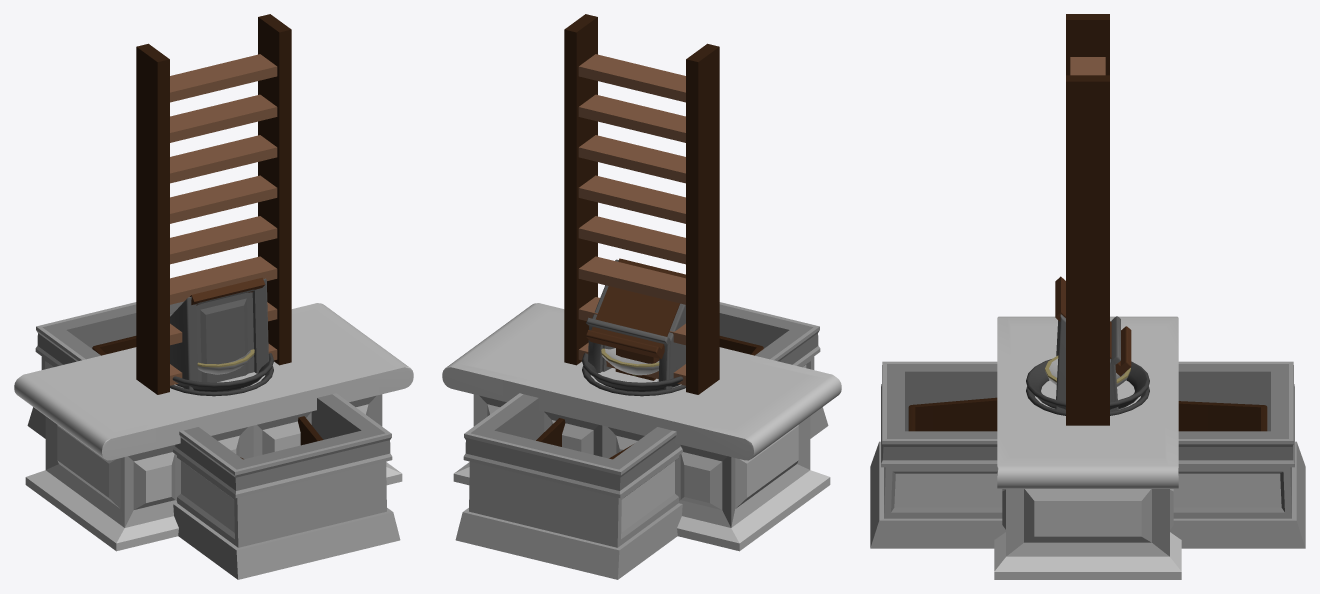
File: MiscFuniture.fbx
3 views of the same model, side by side, from view 1: azimuth 30°, elevation 25°; view 2: azimuth 150°, elevation 25°; view 3: azimuth 270°, elevation 25° (orthographic). The views are drawn at different scales.
Parts seen in each view (by area): view 1: Altar01, Ladder01, Sarcophagus01, Lectern02, Cauldron02, Coffin01, Lectern01, Font01, Cauldron01; view 2: Altar01, Ladder01, Sarcophagus01, Lectern01, Lectern02, Coffin01, Cauldron02, Font01, Cauldron01; view 3: Sarcophagus01, Altar01, Ladder01, Coffin01, Lectern02, Cauldron02, Lectern01.
Part boxes in pixels (bbox=[...]): Altar01: bbox=[14, 303, 413, 551]; Ladder01: bbox=[136, 14, 291, 394]; Sarcophagus01: bbox=[27, 301, 400, 579]; Lectern02: bbox=[170, 278, 268, 389]; Cauldron02: bbox=[172, 353, 273, 391]; Coffin01: bbox=[92, 336, 322, 459]; Lectern01: bbox=[190, 277, 265, 305]; Font01: bbox=[197, 349, 254, 374]; Cauldron01: bbox=[170, 366, 273, 396]; Altar01: bbox=[442, 303, 841, 551]; Ladder01: bbox=[564, 14, 719, 394]; Sarcophagus01: bbox=[455, 302, 828, 579]; Lectern01: bbox=[585, 258, 685, 380]; Lectern02: bbox=[586, 259, 685, 389]; Coffin01: bbox=[536, 336, 763, 459]; Cauldron02: bbox=[582, 353, 683, 391]; Font01: bbox=[601, 348, 659, 376]; Cauldron01: bbox=[582, 366, 685, 396]; Sarcophagus01: bbox=[870, 361, 1305, 548]; Altar01: bbox=[994, 316, 1181, 579]; Ladder01: bbox=[1066, 14, 1109, 425]; Coffin01: bbox=[908, 397, 1267, 431]; Lectern02: bbox=[1055, 314, 1120, 411]; Cauldron02: bbox=[1026, 359, 1149, 409]; Lectern01: bbox=[1055, 276, 1131, 376].
Size of the model in its own units: 2.21 by 3.22 by 2.59.
